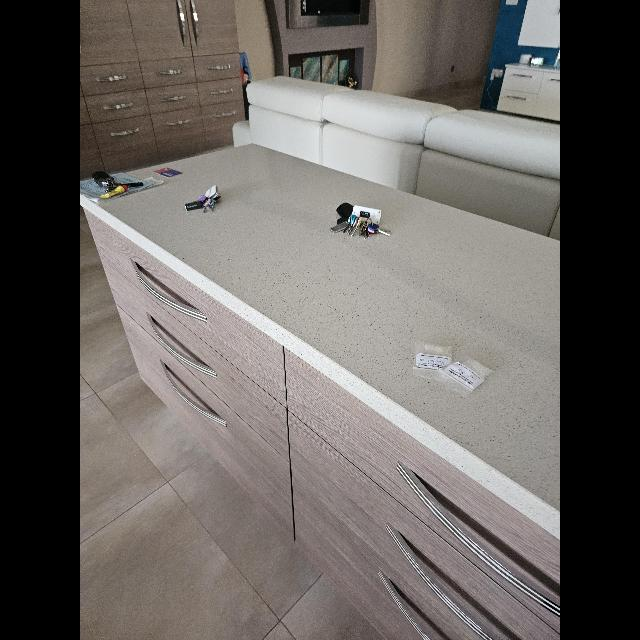Keys: (330, 204, 394, 240), (185, 184, 221, 212)
